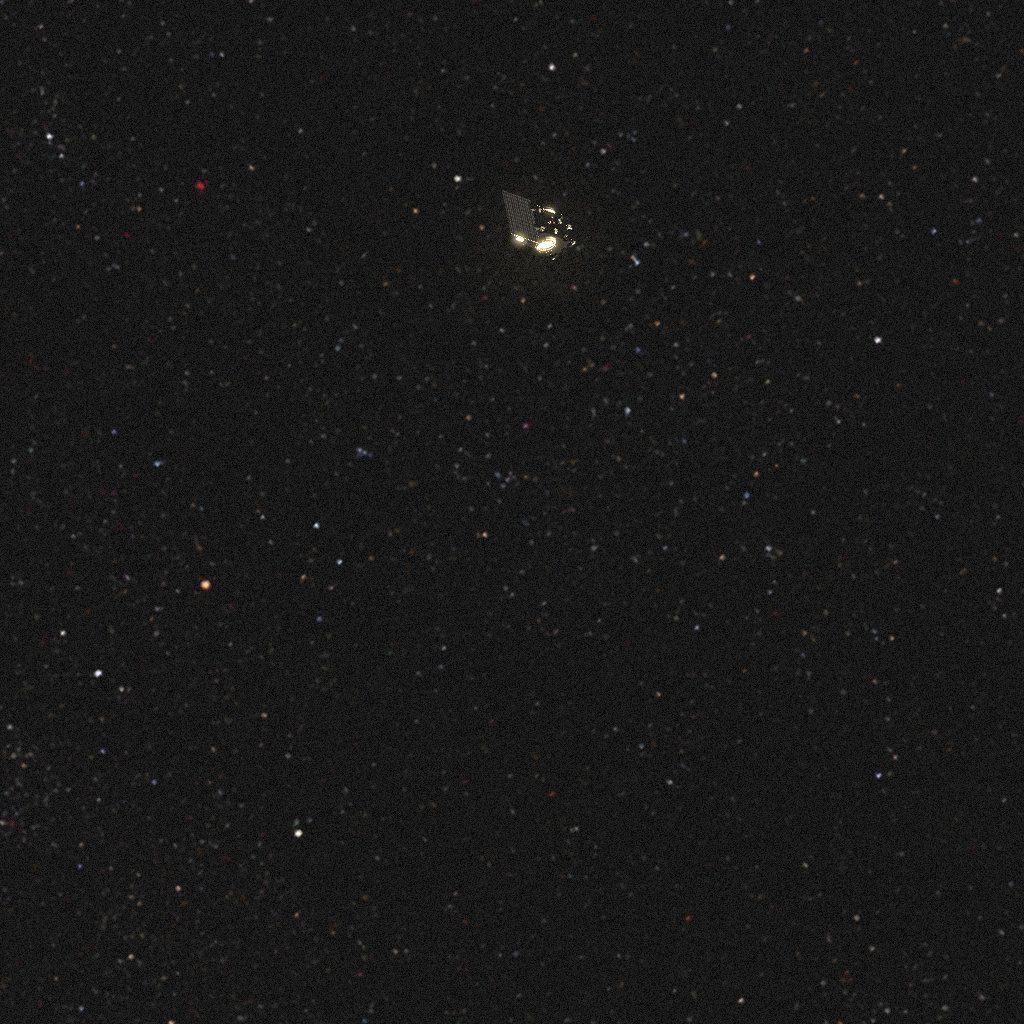proba_3_csc: (502, 191, 575, 260)
